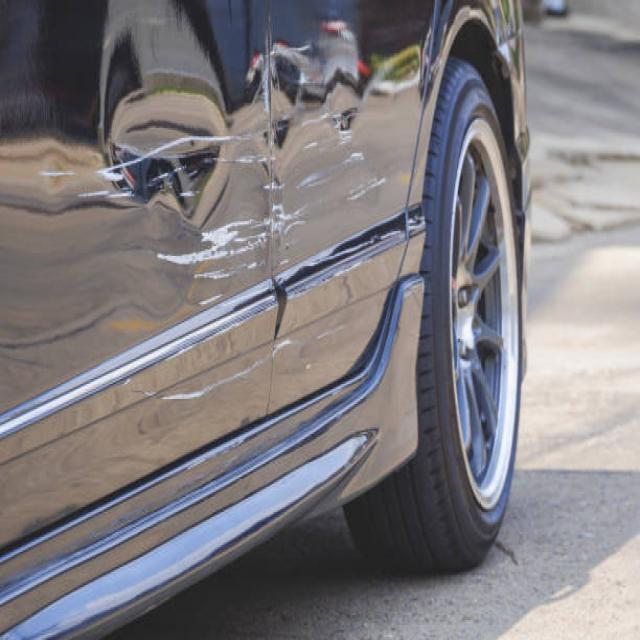Crack: (278, 197, 425, 276)
Dent: (136, 130, 273, 278)
Scratch: (111, 327, 295, 417), (39, 136, 268, 199), (271, 151, 385, 255), (273, 62, 371, 162), (157, 218, 273, 283), (176, 442, 258, 469)
